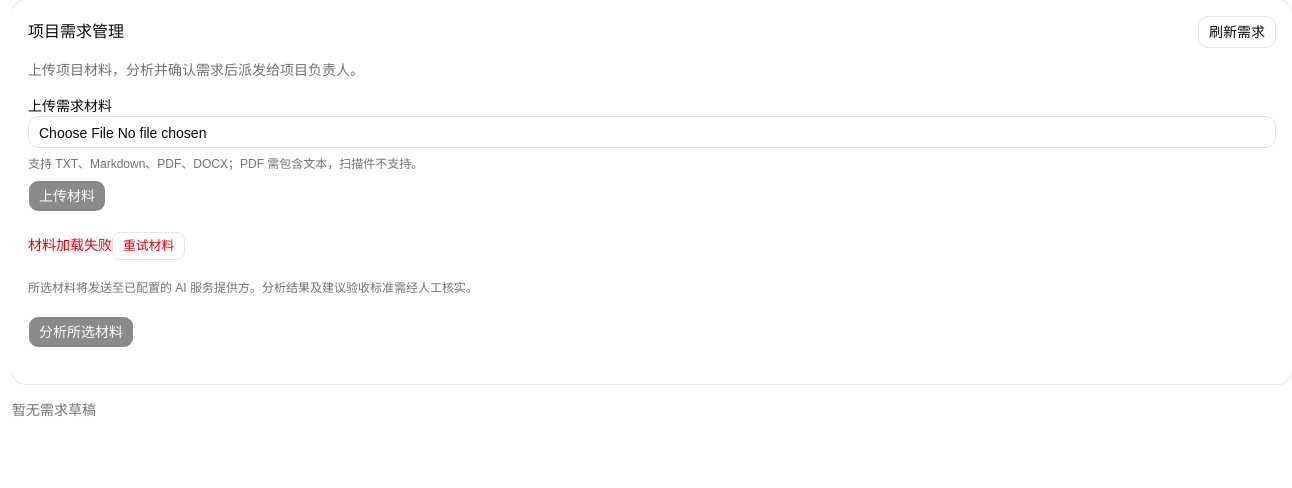
Test: 项目需求 › retries a failed materials query without a misleading empty state
Expected: the text "材料加载失败" is shown, [28,237,112,253]
Click the button "重试材料".
click(149, 246)  # box [112,232,185,260]
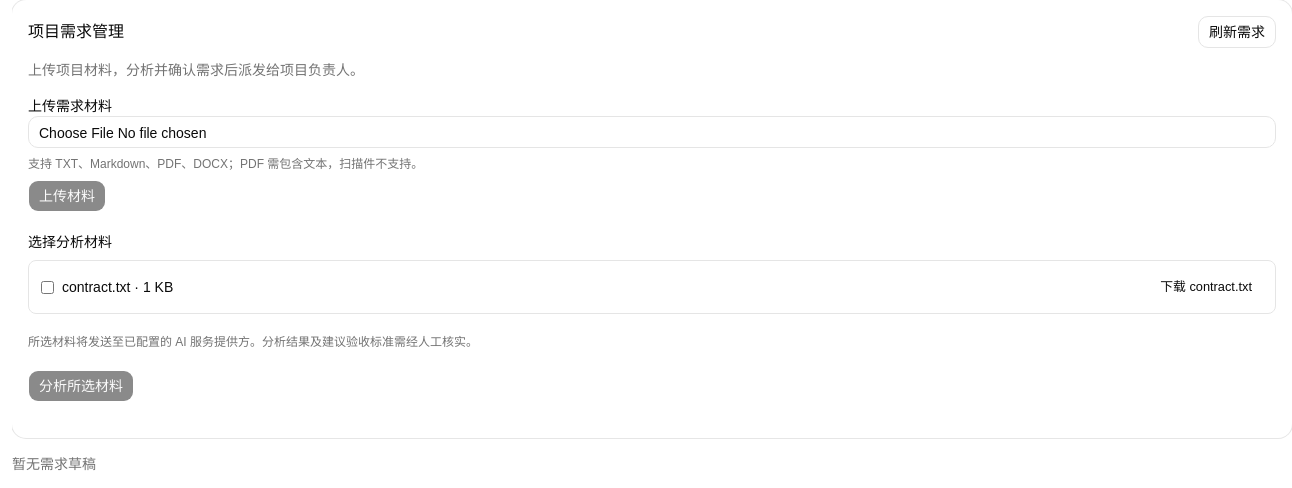
Expected: the checkbox is shown, [41,280,54,294]
